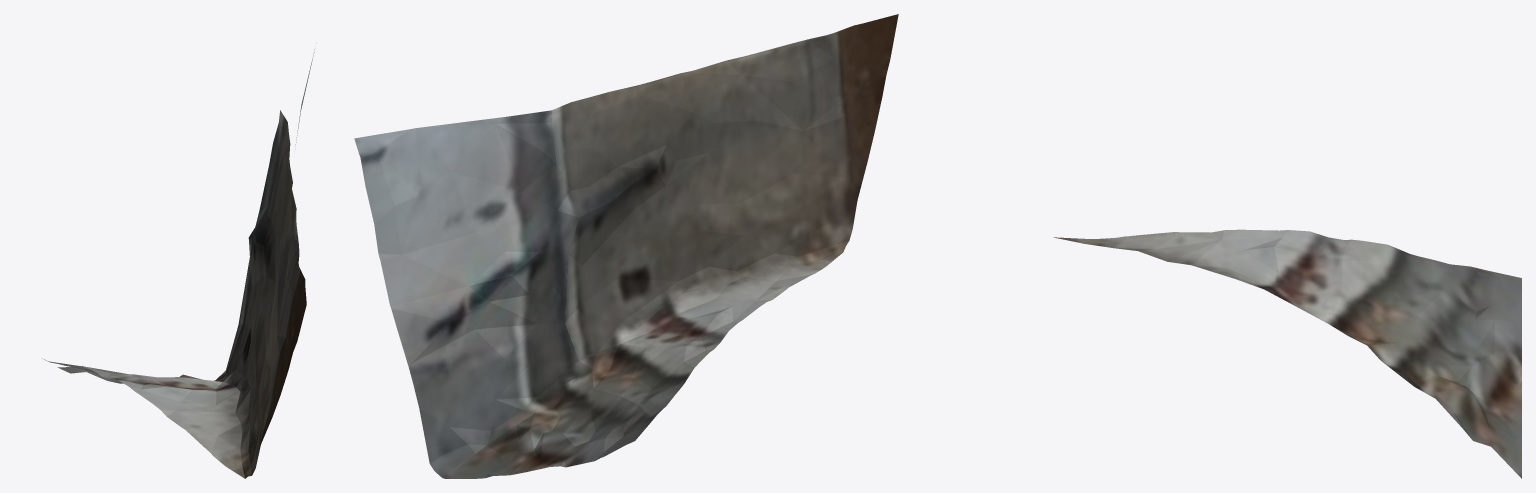
3 views of the same model, side by side, from view 1: azimuth 30°, elevation 25°; view 2: azimuth 150°, elevation 25°; view 3: azimuth 270°, elevation 25° (orthographic). The views are drawn at different scales.
Bounding box in the file's own units: 1.6 × 1.74 × 2.61.
1 material, 1 textured.
